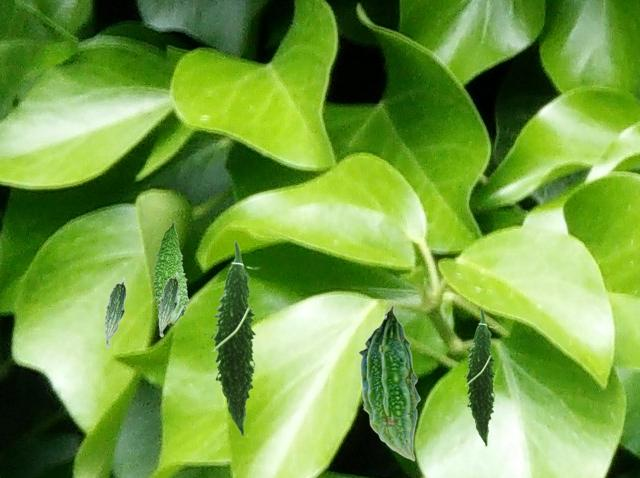ampalaya: (209, 239, 262, 437), (358, 304, 421, 462), (463, 307, 499, 447), (151, 219, 190, 327), (103, 276, 126, 348), (157, 271, 179, 337)
